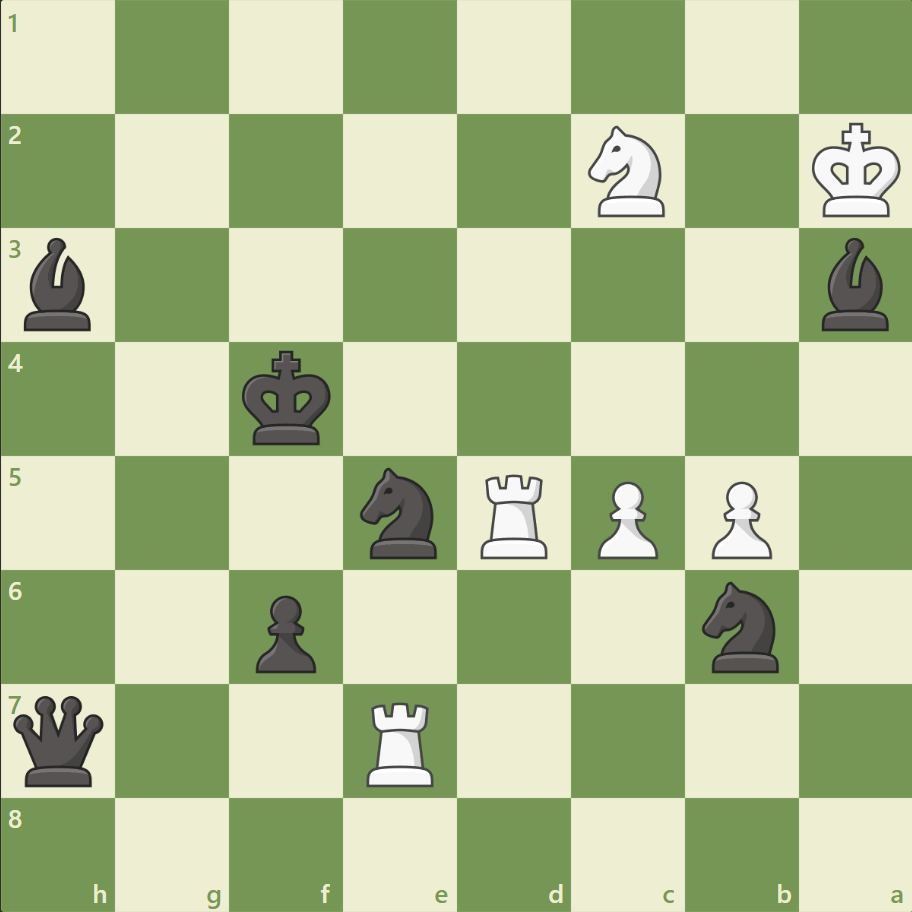K: (806, 117, 906, 225)
N: (579, 121, 676, 223)
P: (701, 473, 776, 564), (588, 473, 662, 564)
R: (473, 466, 556, 563), (360, 693, 442, 790)
b: (812, 233, 896, 336), (17, 233, 101, 336)
k: (238, 344, 338, 452)
n: (351, 461, 449, 564), (692, 575, 789, 677)
p: (247, 586, 322, 677)
q: (10, 690, 109, 789)
